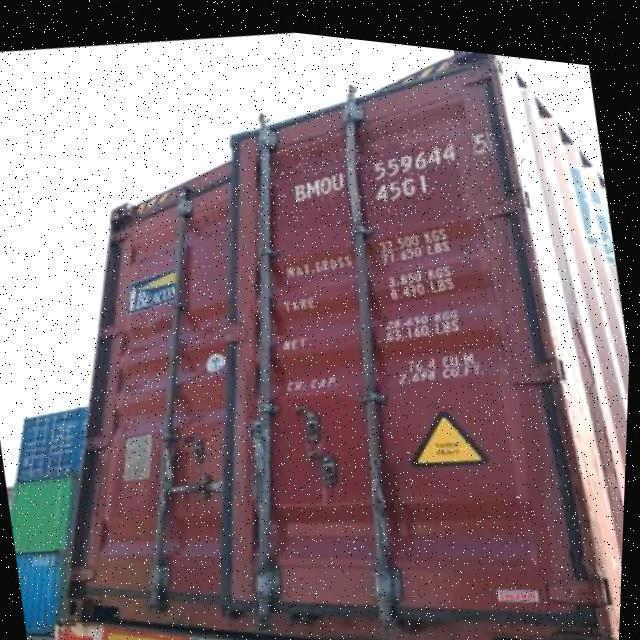ISO: (372, 173, 441, 209)
container_number: (285, 130, 502, 203)
